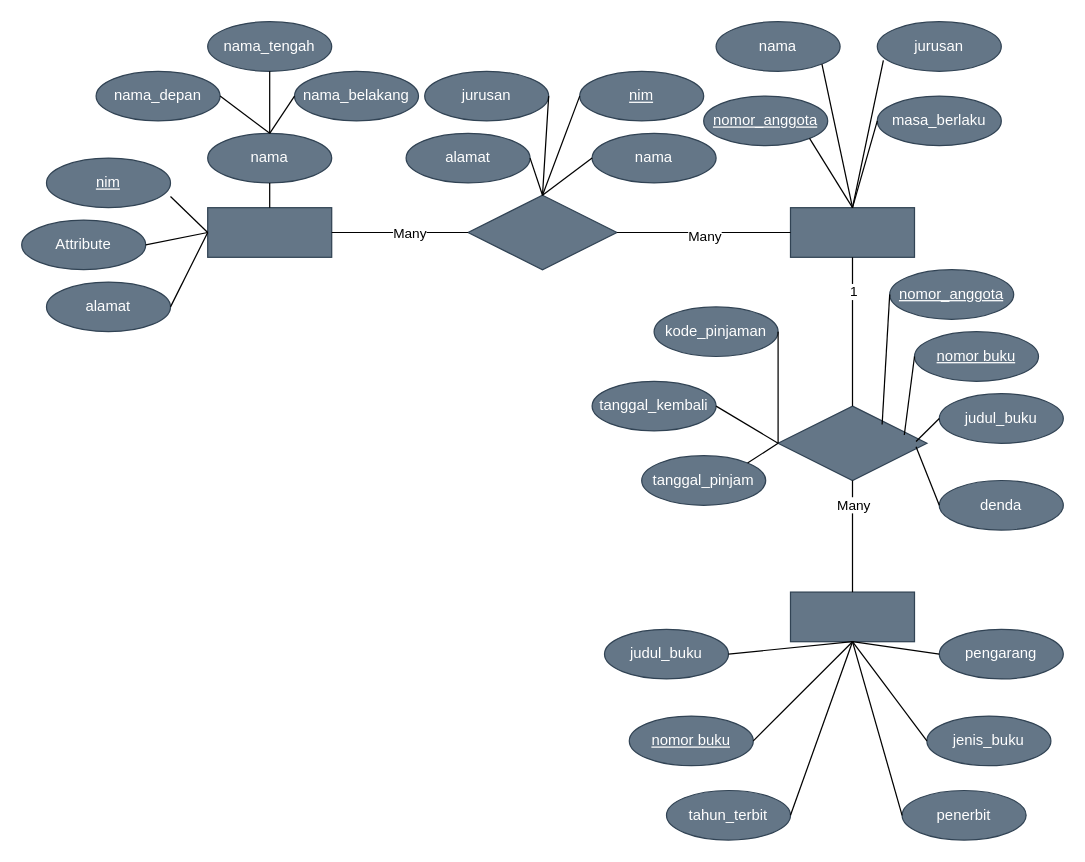
This 1085x862 diagram has some shape labels left out. Here are the shapes that lost their labels. From the top down, the centre of each, then its label:
At pixel 269 231: "Mahasiswa".
At pixel 542 232: "Mendaftar".
At pixel 851 231: "Anggota perpustakaan".
At pixel 852 442: "Meminjam".
At pixel 851 616: "Buku".
